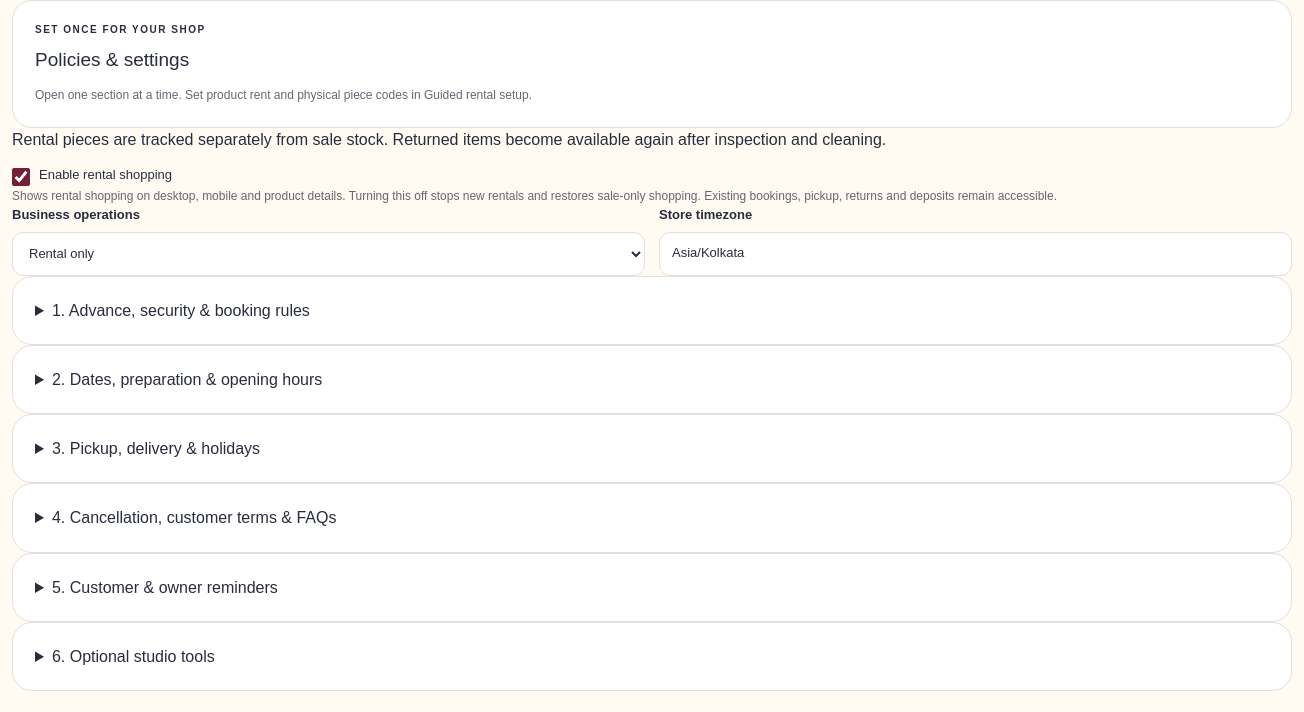
Scenario: explicit storefront switch enables rentals and restores the last enabled mode without touching terms
The image size is (1304, 712).
Click the checkbox labelled "Enable rental shopping" at (21,177), box 12,168 -> 30,186
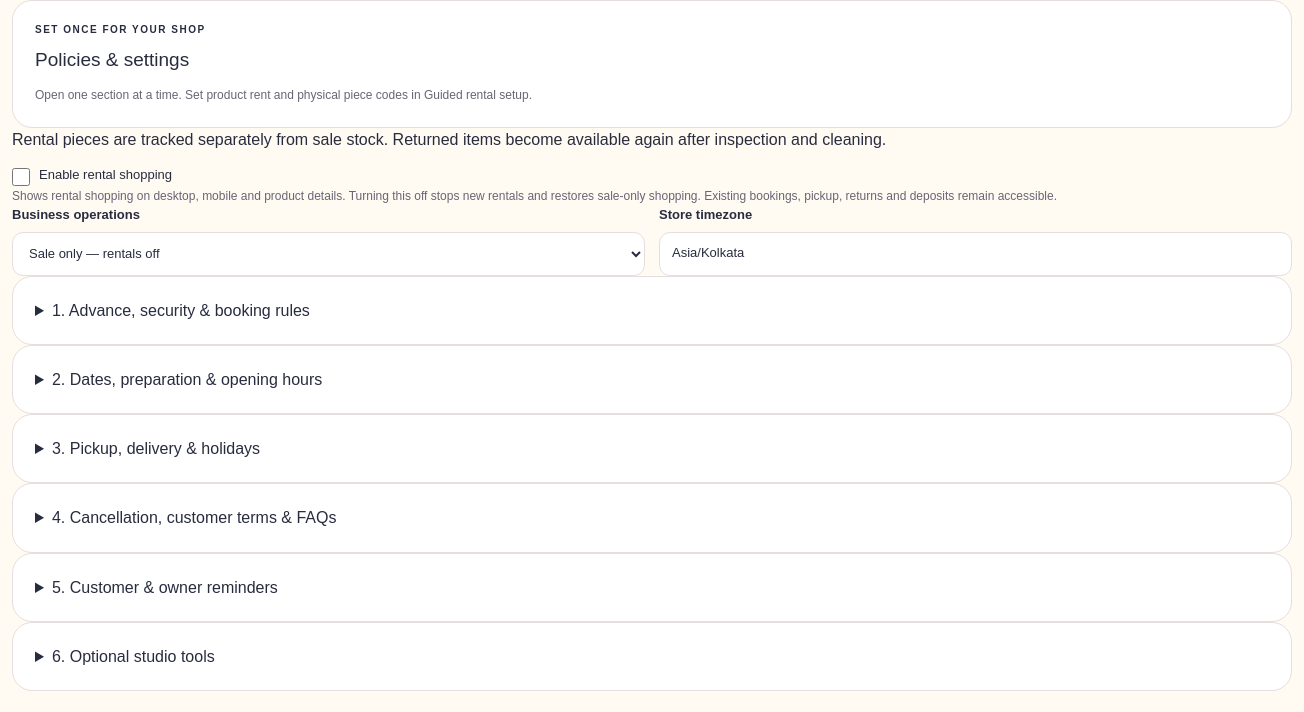
Expected: the text "Existing bookings, pickup, returns and deposits remain accessible" is shown, 12,189 -> 1057,203
Result: the dropdown labelled "Business operations" shows "Sale only — rentals off" at 12,232 -> 645,276
Click the checkbox labelled "Enable rental shopping" at (21,177), box 12,168 -> 30,186
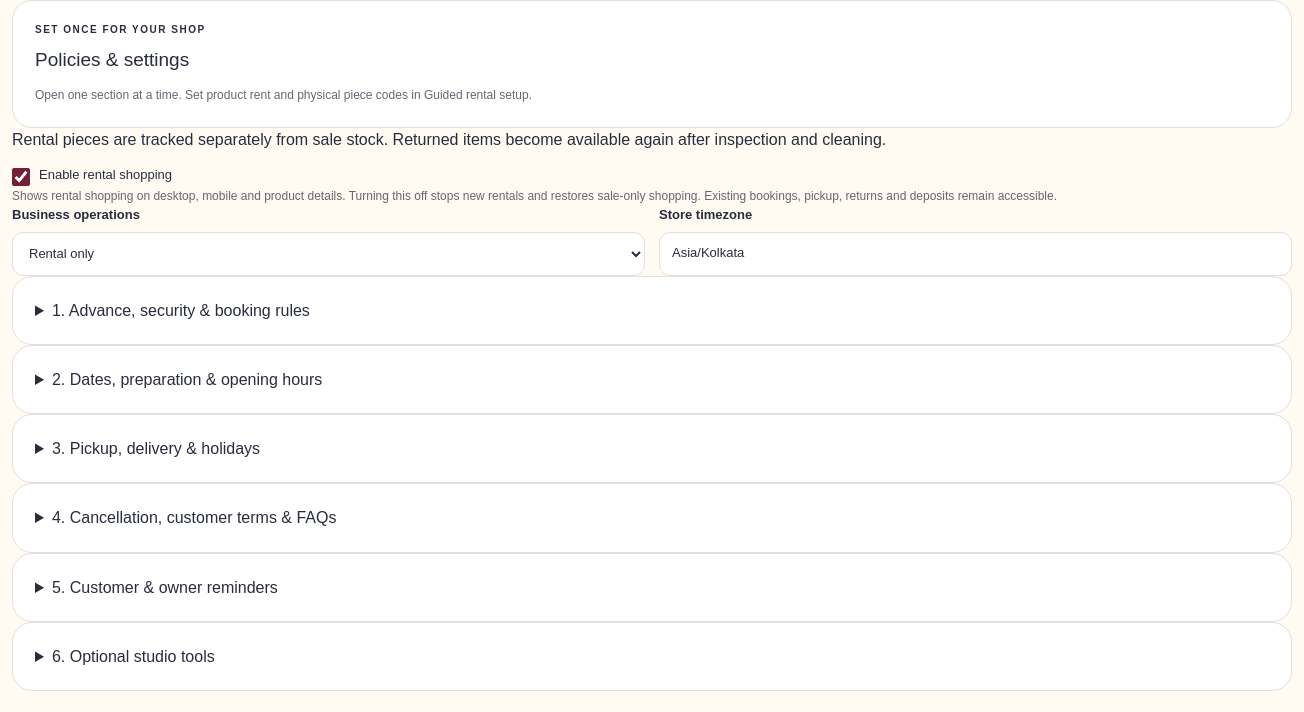
Result: the dropdown labelled "Business operations" shows "Rental only" at 12,232 -> 645,276
